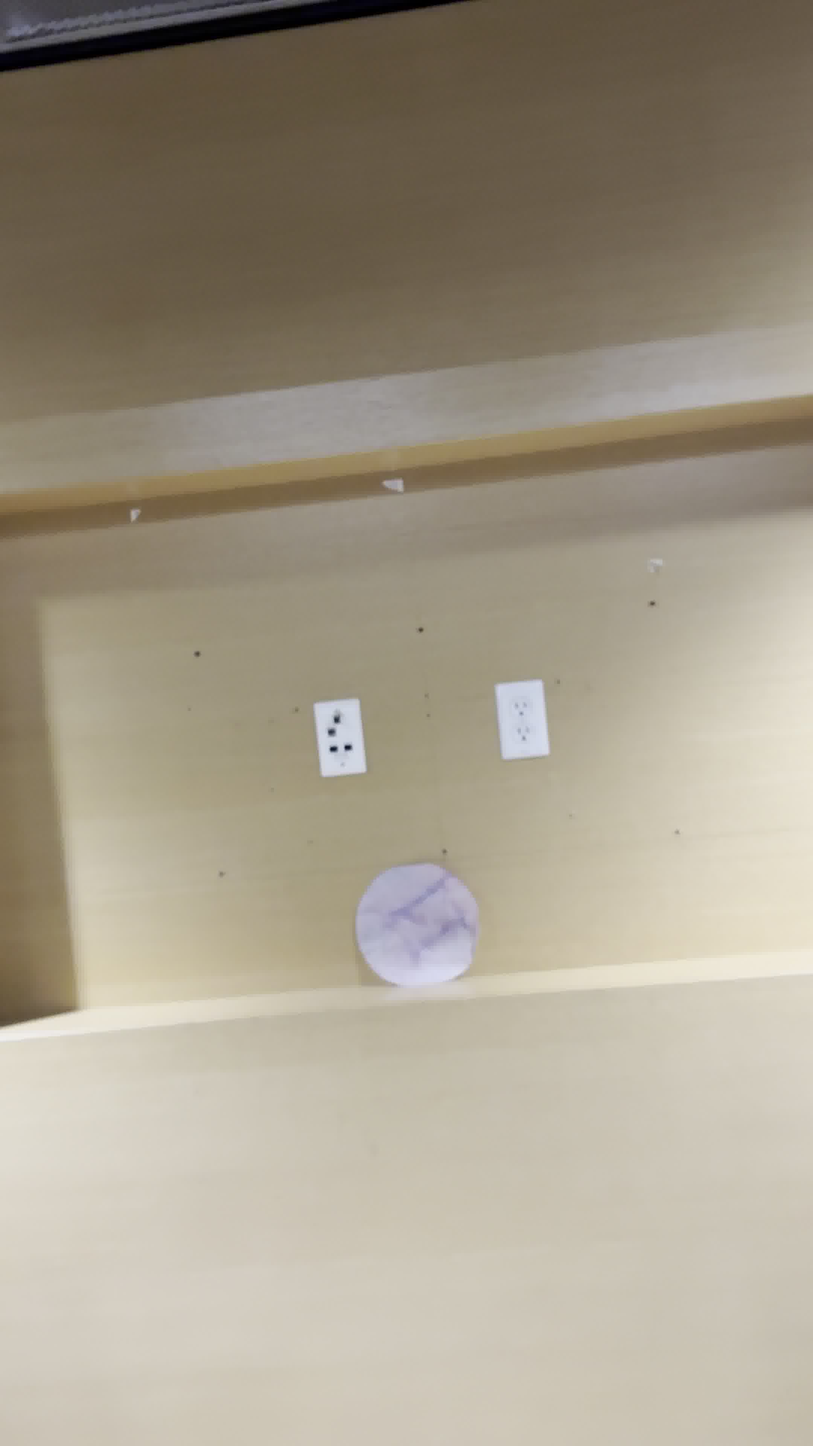Target: (358, 862, 480, 994)
